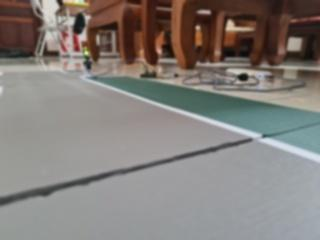green: (78, 36, 96, 67)
